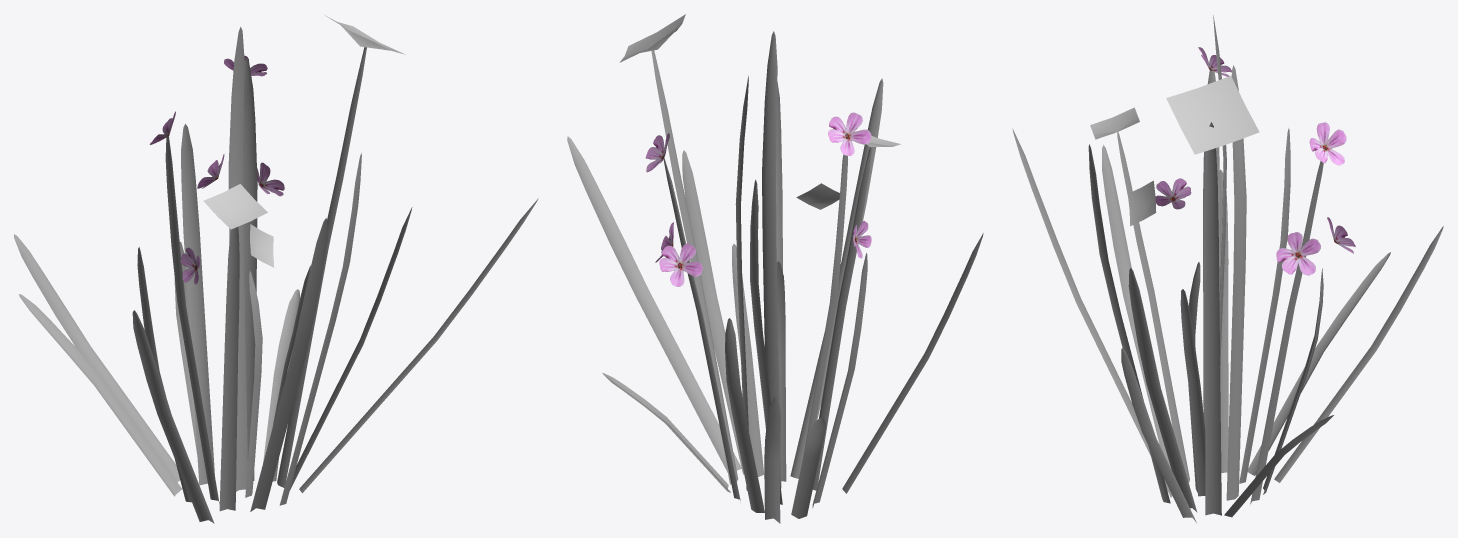
File: flower_patch_01.fbx
3 views of the same model, side by side, from view 1: azimuth 30°, elevation 25°; view 2: azimuth 150°, elevation 25°; view 3: azimuth 270°, elevation 25° (orthographic). The views are drawn at different scales.
Visible parts, largest first — view 1: flowery_mound; view 2: flowery_mound; view 3: flowery_mound.
Boxes of the visible parts, x1,y1,x2,y2 form: flowery_mound: [14, 15, 538, 523]; flowery_mound: [567, 14, 983, 523]; flowery_mound: [1012, 15, 1443, 522].
Size of the model in its own units: 30.71 by 33.39 by 26.95.
